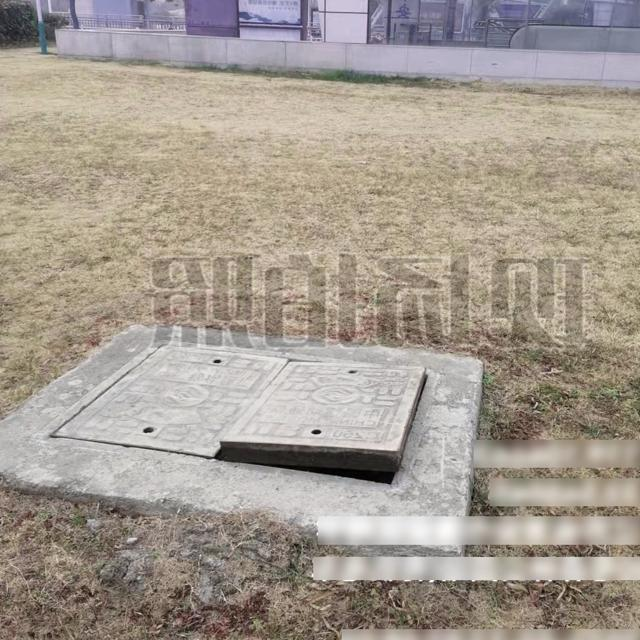uncovered: (38, 339, 437, 497)
